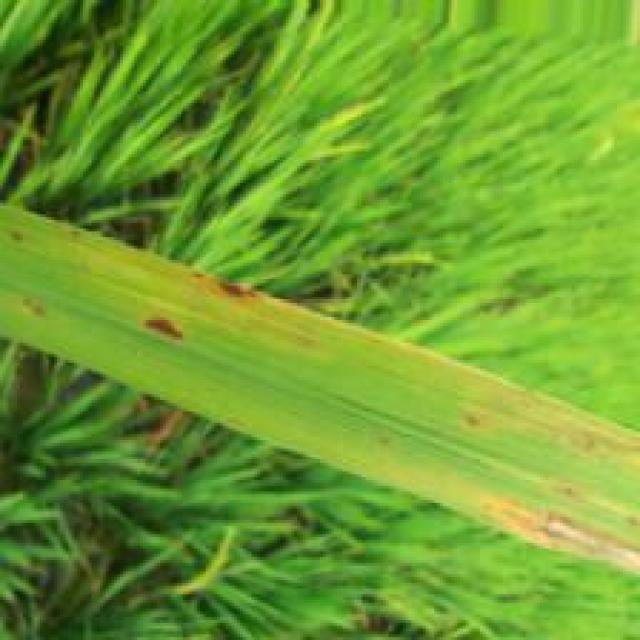Rice Tungro: (489, 501, 640, 574), (206, 277, 273, 310), (141, 314, 190, 344)
